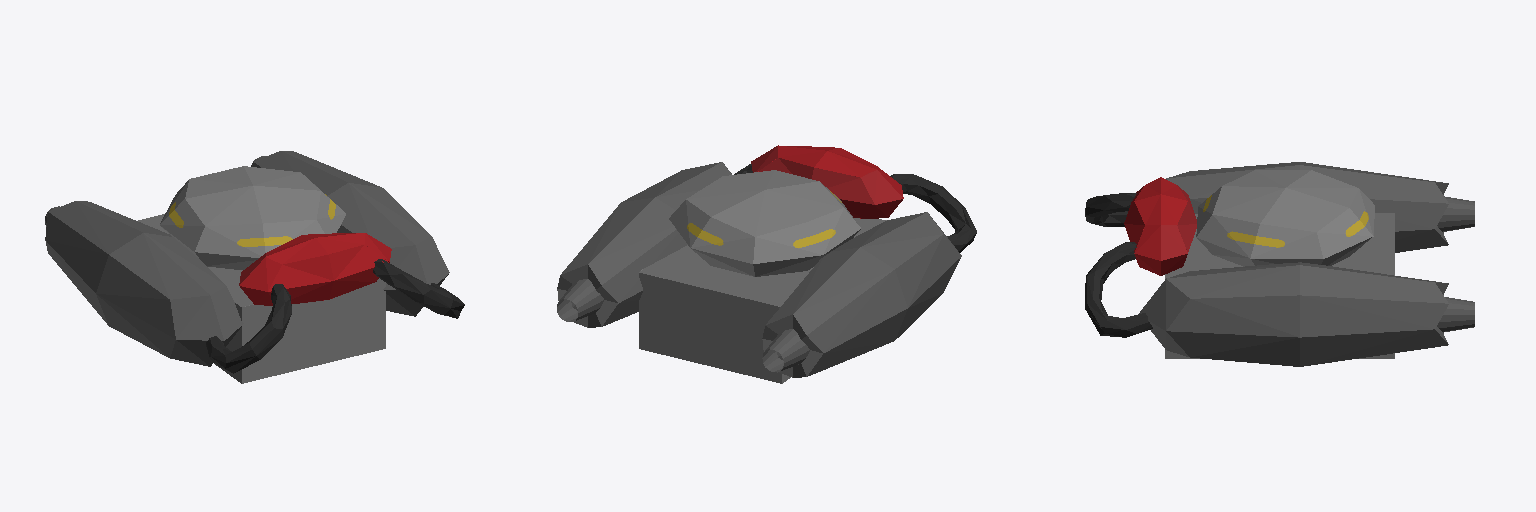
The picture shows the model from 3 angles: view 1: azimuth 30°, elevation 25°; view 2: azimuth 150°, elevation 25°; view 3: azimuth 270°, elevation 25°; orthographic projection.
Parts seen in each view (by area): view 1: 立方体.005; view 2: 立方体.005; view 3: 立方体.005.
Boxes of the visible parts, <box> form: 立方体.005: <box>45,151,464,383</box>; 立方体.005: <box>557,145,976,383</box>; 立方体.005: <box>1085,162,1474,366</box>.
Bounding box in the file's own units: 3.29 × 1.43 × 3.72.
Materials: 1 (1 with a texture image).